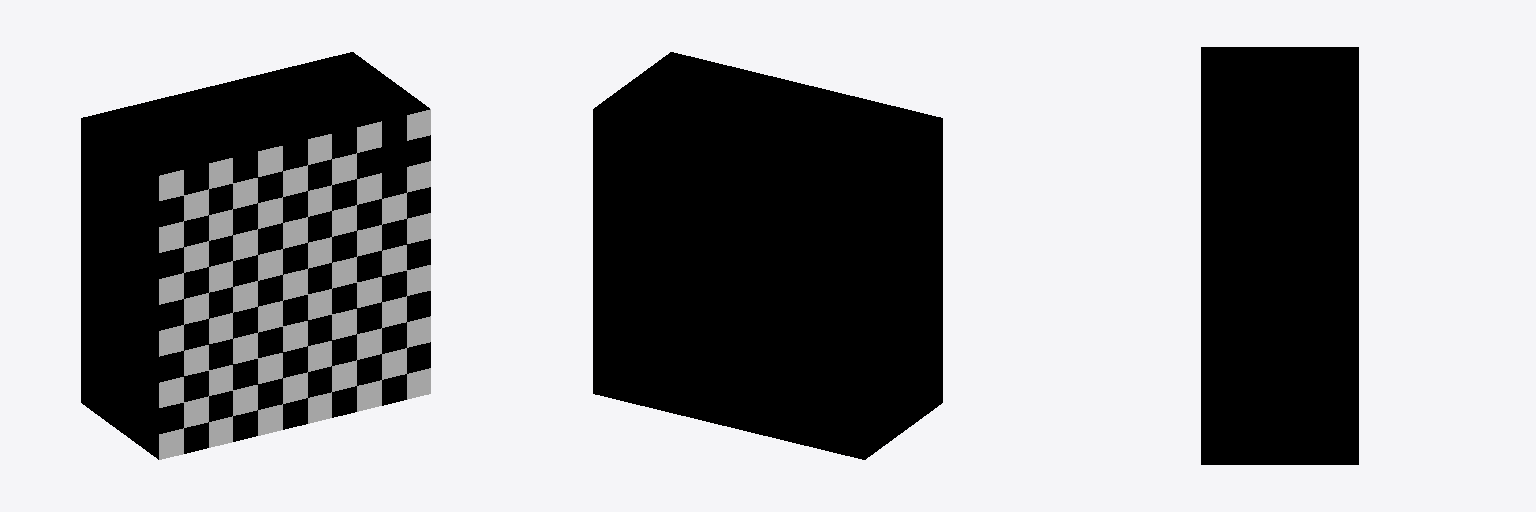
Rendered from floor.obj.
The picture shows the model from 3 angles: view 1: azimuth 30°, elevation 25°; view 2: azimuth 150°, elevation 25°; view 3: azimuth 270°, elevation 25°; orthographic projection.
Parts seen in each view (by area): view 1: Cube; view 2: Cube; view 3: Cube.
Boxes of the visible parts, box(x1,y1,x2,y2) form: Cube: box(81, 52, 430, 459); Cube: box(593, 52, 942, 459); Cube: box(1201, 47, 1358, 464).
Size of the model in its own units: 20.99 by 20.99 by 10.49.